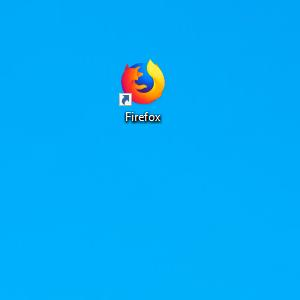firefox: (118, 58, 167, 107)
